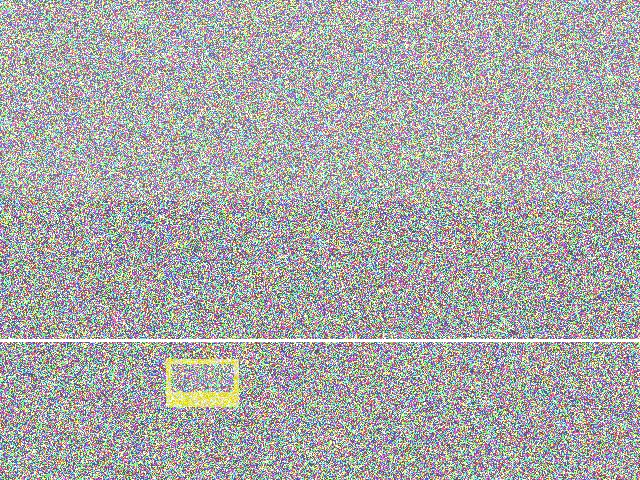car: (542, 207, 609, 264)
motorcycle: (199, 196, 319, 252)
